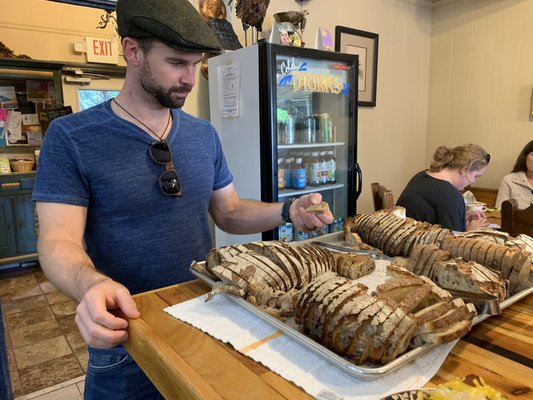sushi: (208, 41, 359, 239)
